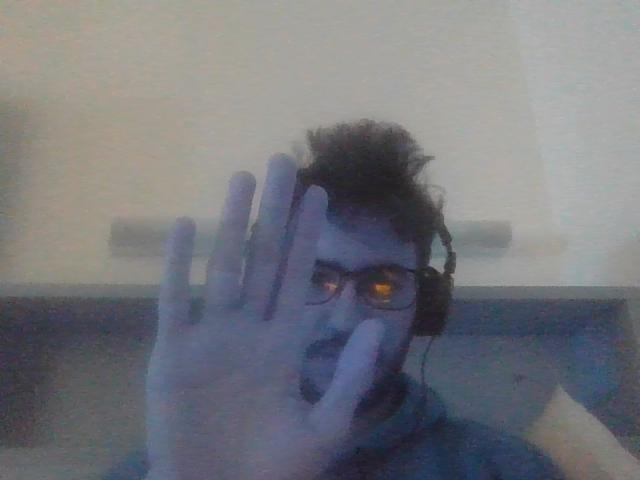Hello: (144, 152, 384, 475)
